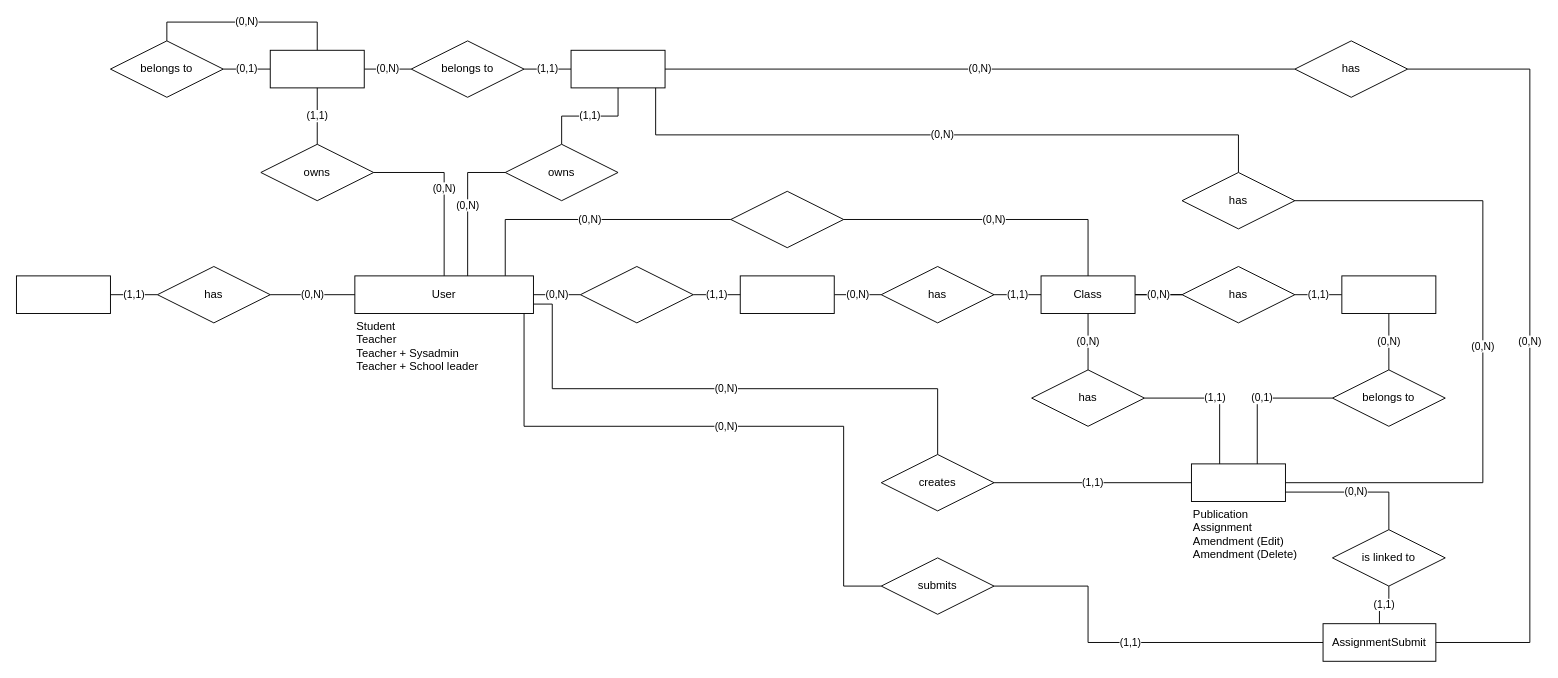
Some shapes in this 1558 by 678 pixel diagram are drawn without their labels. The centre of each missing label's shape, as x and y in pixels:
"Document" belongs at point (617, 68).
"Folder" belongs at point (316, 68).
"Group" belongs at point (786, 294).
"is tutor of" belongs at point (636, 294).
"participates in" belongs at point (787, 219).
"Post" belongs at point (1238, 482).
"Unit" belongs at point (1388, 294).
"UserSession" belongs at point (63, 294).
